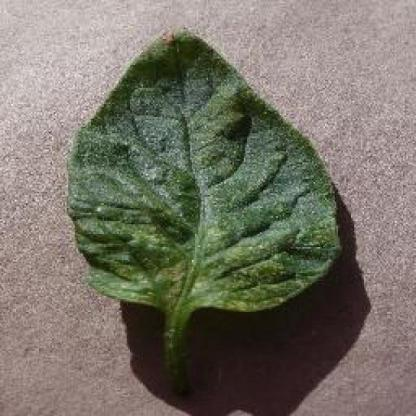Tomato_Spider_Mites: (68, 29, 341, 306)
